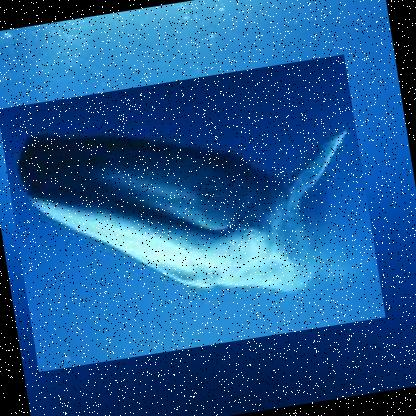blue_whale: (0, 53, 387, 373)
